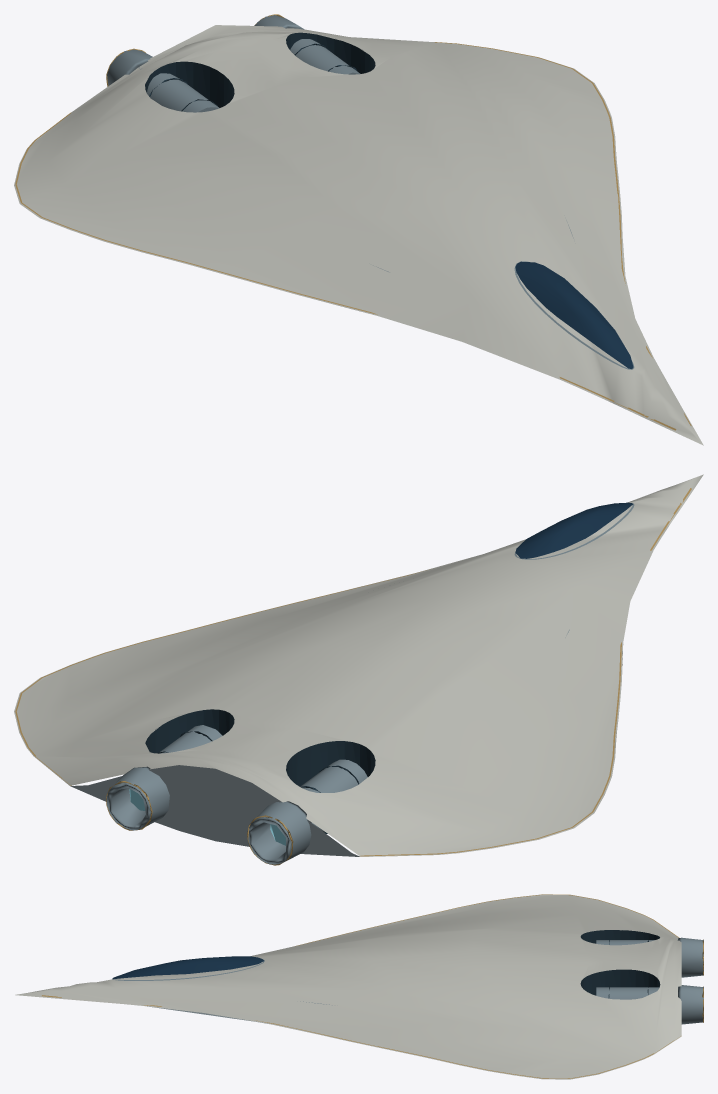
File: shuttle_01_d0_lod2.glb
3 renders of one model, top to bottom at view 1: azimuth 30°, elevation 25°; view 2: azimuth 150°, elevation 25°; view 3: azimuth 270°, elevation 25°, orthographic. The views are drawn at different scales.
Parts seen in each view (by area): view 1: SHUTTLE_DISTANCE_SURFACE; view 2: SHUTTLE_DISTANCE_SURFACE; view 3: SHUTTLE_DISTANCE_SURFACE.
Part boxes in pixels (x1=…): SHUTTLE_DISTANCE_SURFACE: x1=14, y1=14, x2=703, y2=445; SHUTTLE_DISTANCE_SURFACE: x1=14, y1=474, x2=703, y2=865; SHUTTLE_DISTANCE_SURFACE: x1=15, y1=894, x2=703, y2=1079.
Size of the model in its own units: 23.6 by 3.87 by 37.21.
